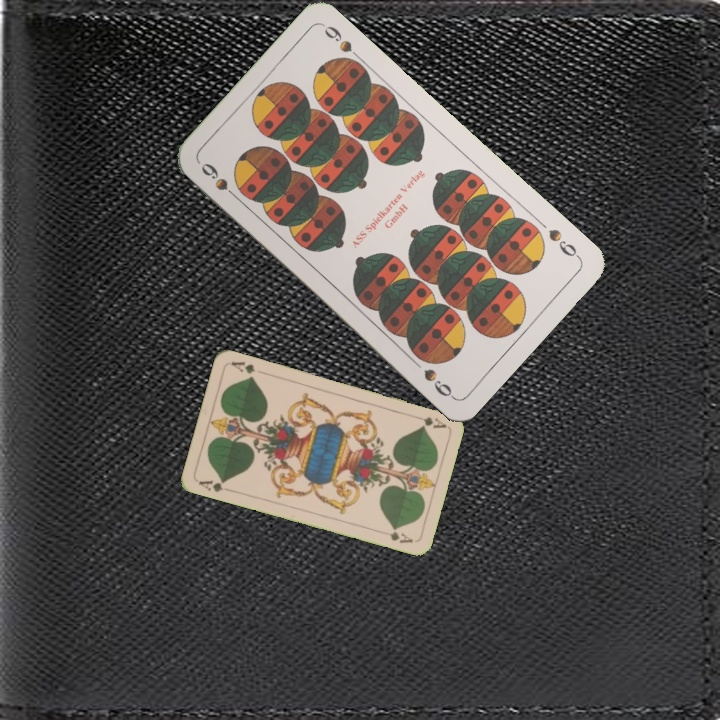GA: (409, 411, 449, 431), (194, 476, 235, 495)
S9: (196, 158, 243, 204), (544, 224, 583, 262)
